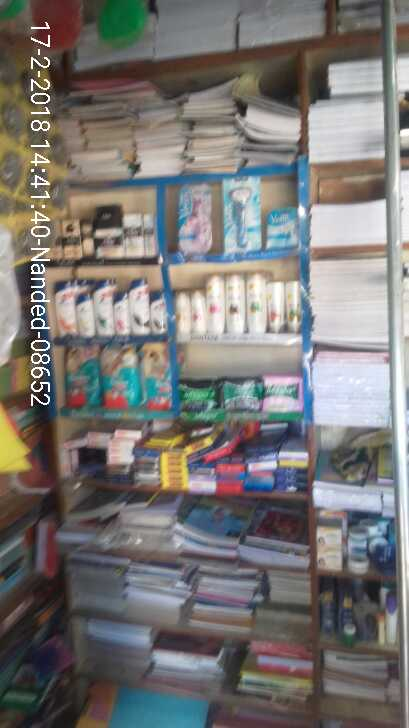venus: (225, 176, 262, 250), (180, 185, 213, 253), (270, 205, 300, 246)
